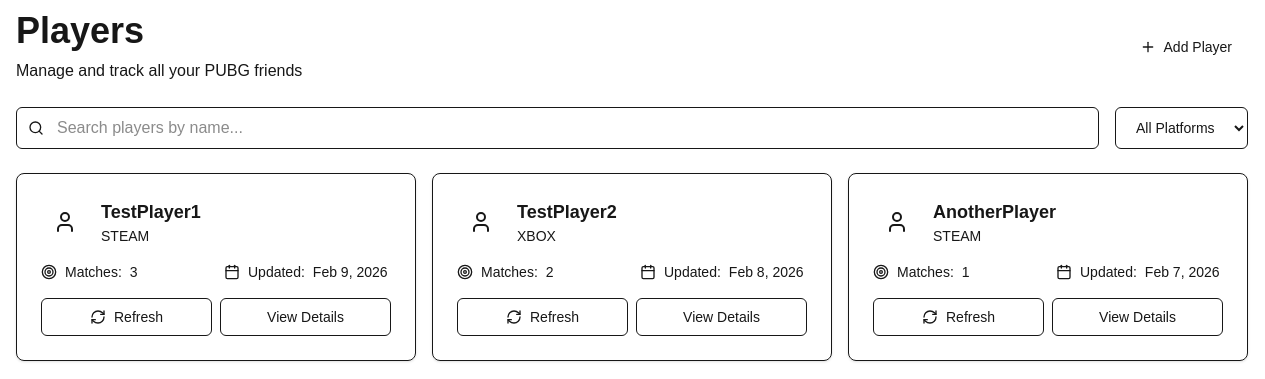
it: Players Page Integration Tests › filters players by search query
expect the heading "TestPlayer1" is shown: met, box [101,198,201,226]
In the field with placeholder "Search players by name...": (558, 128) [16,107,1099,149], type "Another"
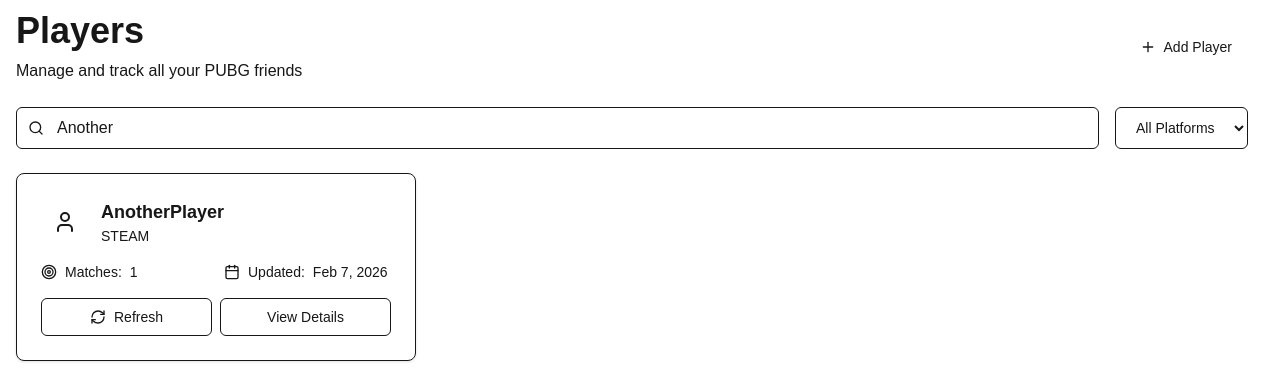
expect the heading "AnotherPlayer" is shown: met, box [101,198,224,226]
expect the heading "TestPlayer1" is gone: met
expect the heading "TestPlayer2" is gone: met
